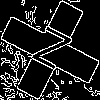Z: (25, 25, 74, 80)
